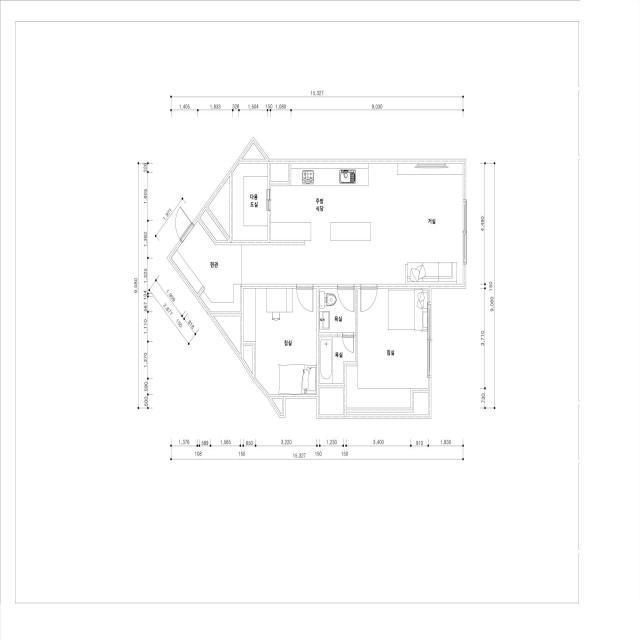space_bedroom: (346, 288, 428, 408), (243, 288, 317, 395)
space_front: (171, 221, 242, 312)
space_kitchen: (271, 163, 371, 241)
space_living_room: (242, 163, 463, 284)
space_other: (233, 163, 268, 241), (346, 392, 428, 415), (208, 176, 230, 238), (214, 316, 240, 354), (200, 210, 228, 240), (320, 388, 343, 415), (242, 143, 265, 159), (271, 163, 288, 182), (243, 346, 253, 374), (272, 399, 282, 414)
space_toilet: (320, 337, 355, 384), (320, 288, 355, 333)
